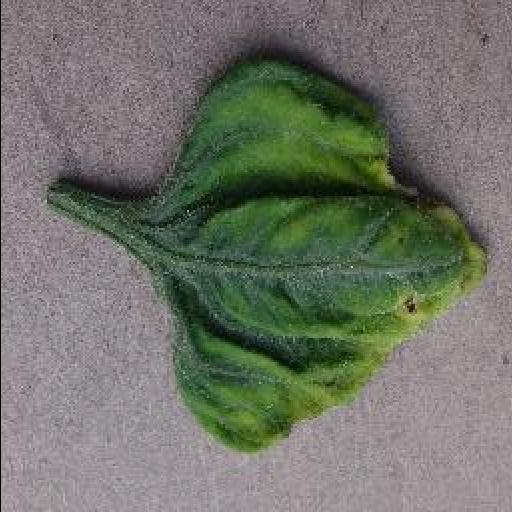disease_tomato: (162, 51, 492, 456)
